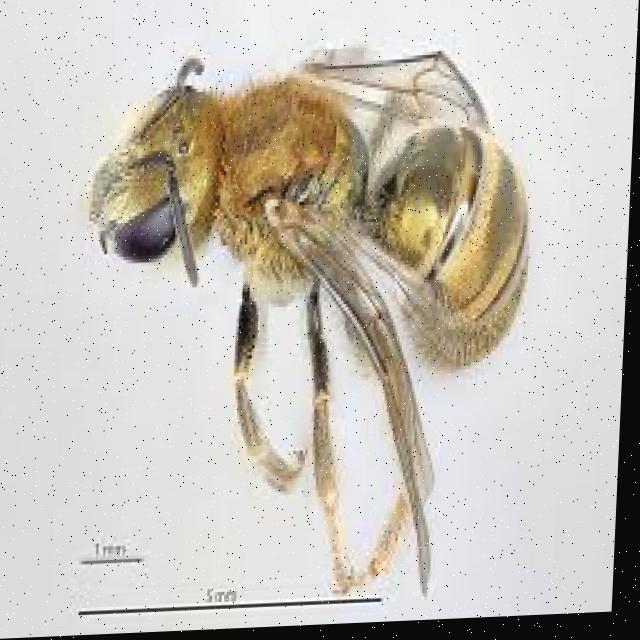Seladonia: (61, 19, 551, 581)
